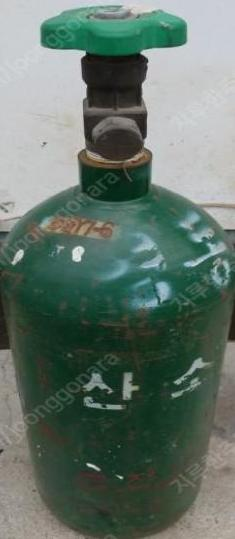cylinder: (0, 1, 235, 539)
